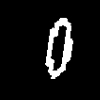chain: (45, 18, 72, 78)
